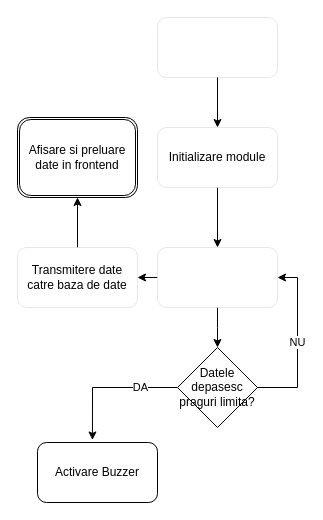
Image size: 323x520. Some labels were removed from this diagram. Each missing label, with the centre of its shape:
"Achizitie date" goes at (217,277).
"Alimentare" goes at (217,47).
